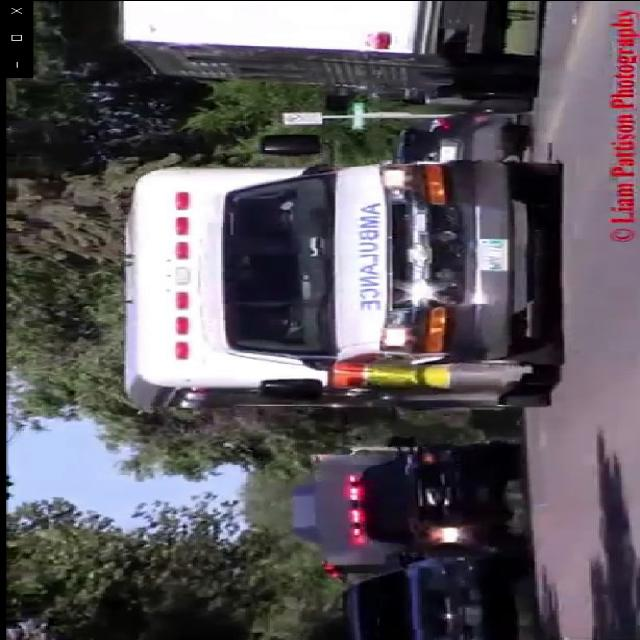emergency: (111, 131, 573, 421), (311, 428, 531, 586)
